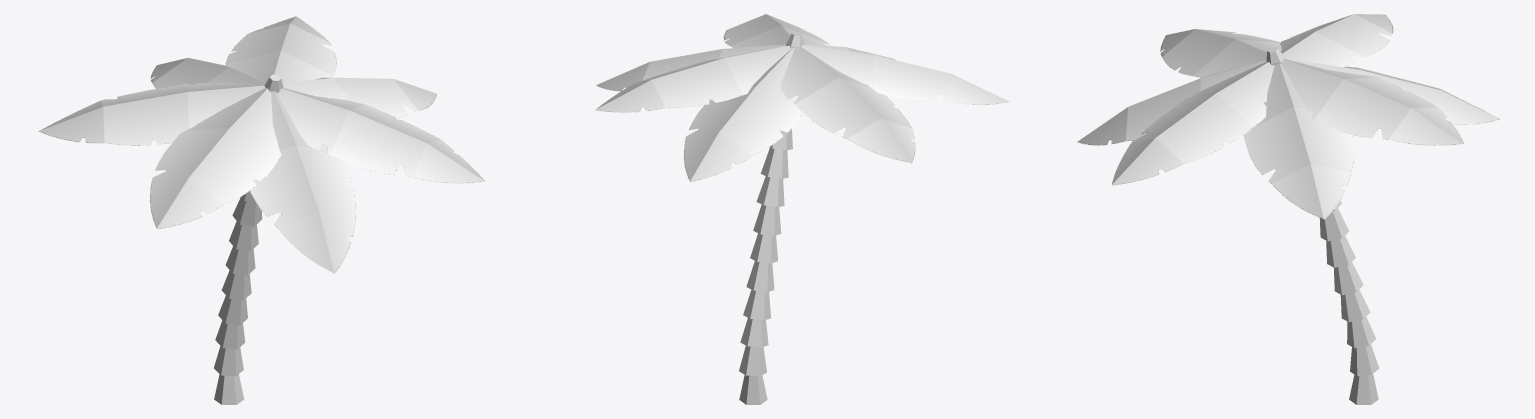
Rendered from PalmTree.fbx.
3 views of the same model, side by side, from view 1: azimuth 30°, elevation 25°; view 2: azimuth 150°, elevation 25°; view 3: azimuth 270°, elevation 25° (orthographic). The views are drawn at different scales.
Visible parts, largest first — view 1: palmLeaf.001, Cone; view 2: palmLeaf.001, Cone; view 3: palmLeaf.001, Cone.
Part boxes in pixels (x1,y1,x2,y2): palmLeaf.001: (38, 16, 485, 273); Cone: (214, 74, 283, 404); palmLeaf.001: (595, 14, 1009, 182); Cone: (739, 33, 804, 404); palmLeaf.001: (1077, 14, 1500, 219); Cone: (1266, 47, 1379, 404).
Bounding box in the file's own units: 1926 × 1525 × 1826.
